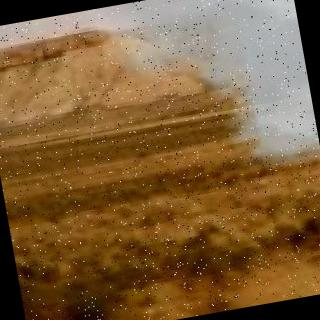smoke: (90, 0, 320, 204)
